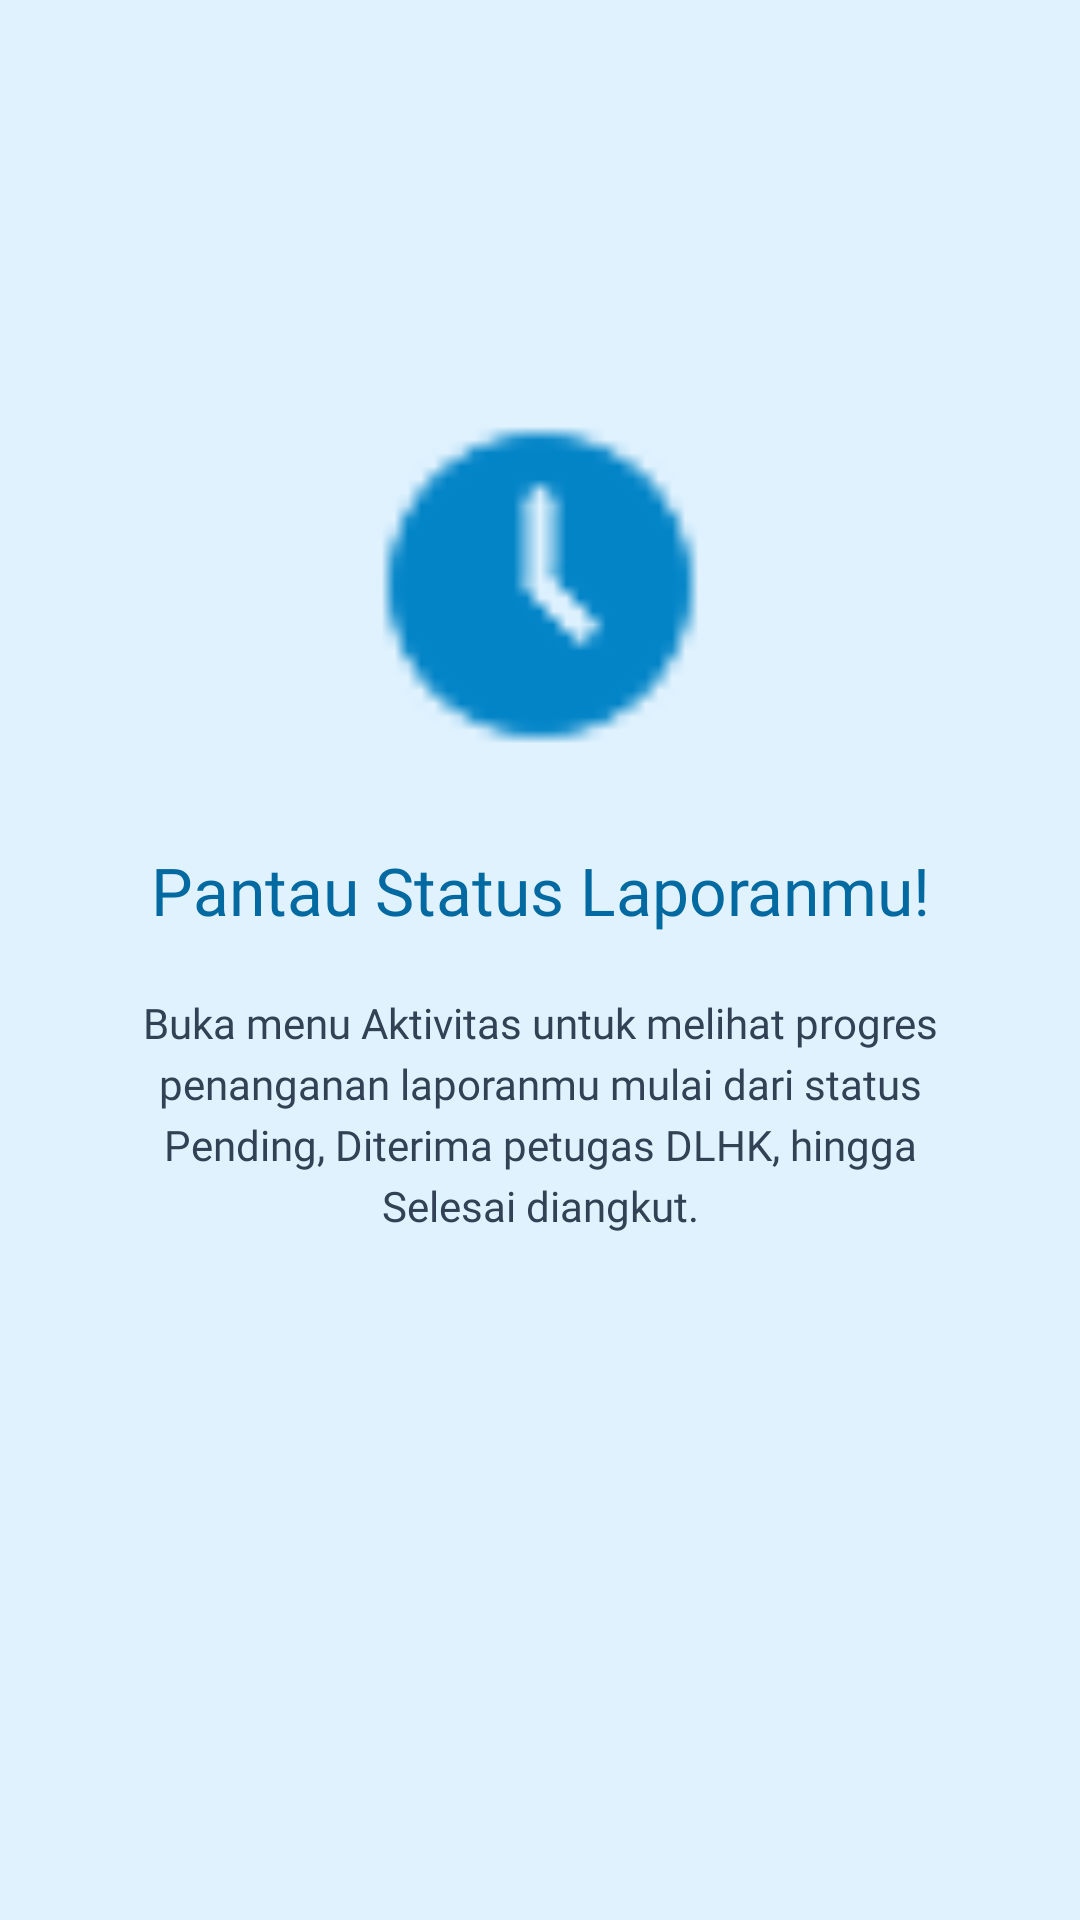

Screen size 1080 x 1920. Icon name, then its center in pixels as (x,y):
clock: (540,585)
